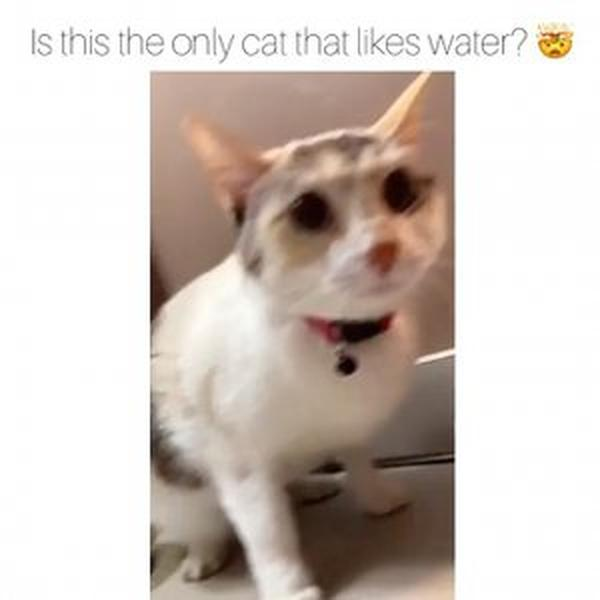michi: (154, 67, 456, 600)
